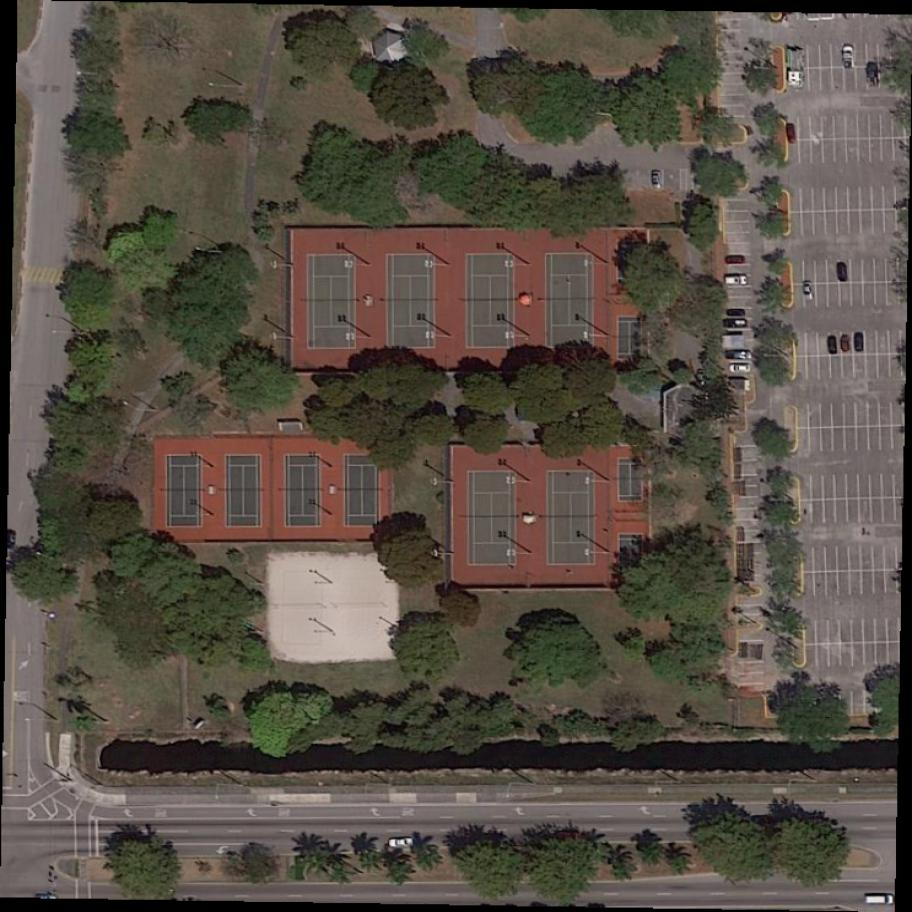small-vehicle: (841, 43, 857, 71), (784, 123, 801, 147), (867, 62, 880, 90), (835, 261, 849, 284), (827, 334, 841, 356), (724, 318, 749, 330), (725, 275, 750, 287), (865, 894, 894, 904), (389, 837, 415, 848), (727, 350, 752, 360), (803, 280, 815, 300), (652, 171, 664, 190), (840, 335, 852, 354), (732, 363, 754, 373), (727, 308, 748, 318), (724, 255, 746, 264), (856, 333, 865, 353)
